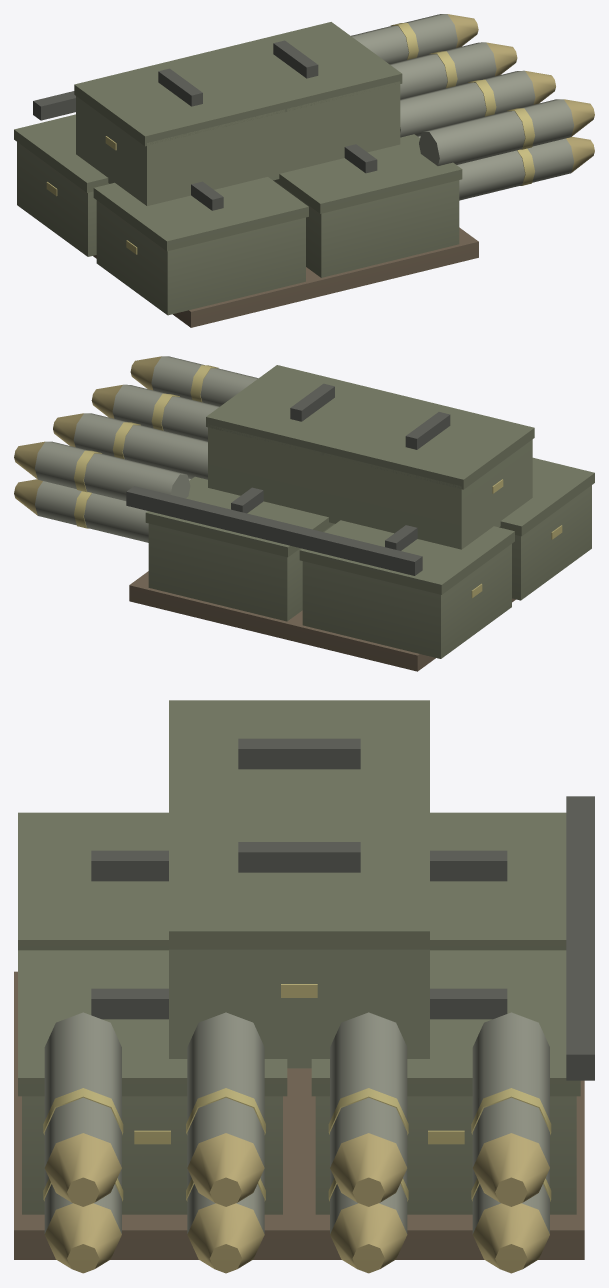
The model's file is m_ammot_5c043a5c.glb.
3 views of the same model, one above another, from view 1: azimuth 30°, elevation 25°; view 2: azimuth 150°, elevation 25°; view 3: azimuth 270°, elevation 25° (orthographic). The views are drawn at different scales.
Visible parts, largest first — view 1: mesh; view 2: mesh; view 3: mesh.
Part boxes in pixels (x1,y1,x2,y2): mesh: (14,14,594,327); mesh: (14,356,594,671); mesh: (14,700,594,1273).
Size of the model in its own units: 23 by 8.6 by 14.25.
